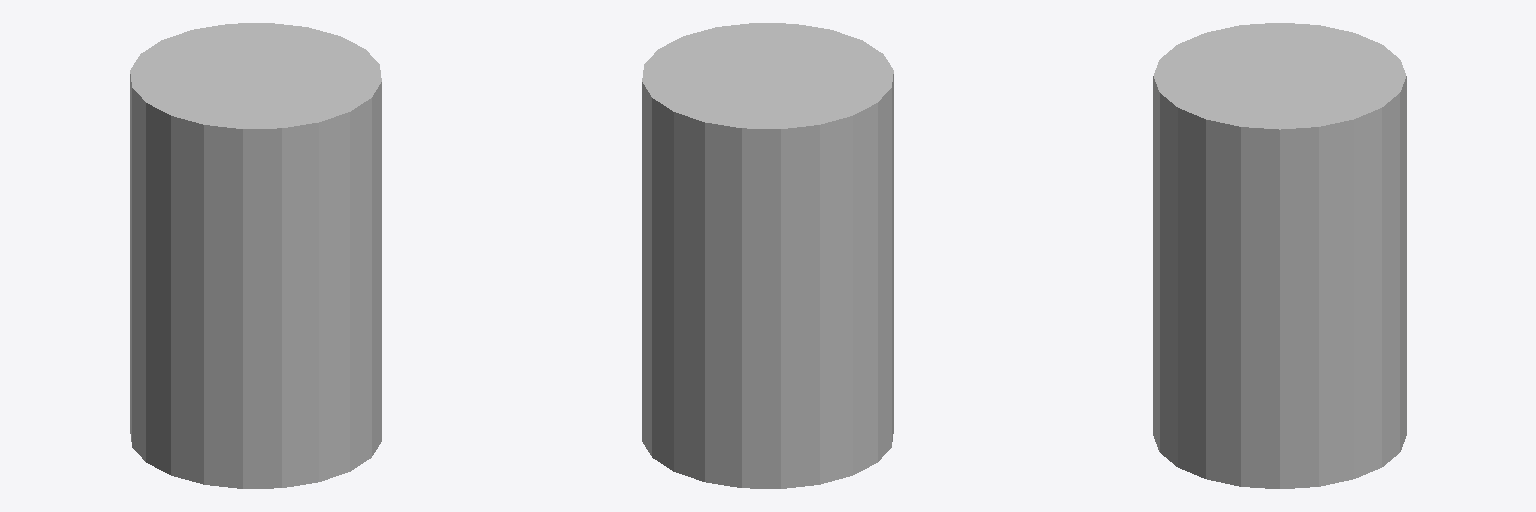
Rendered from canned_food_13.obj.
3 views of the same model, side by side, from view 1: azimuth 30°, elevation 25°; view 2: azimuth 150°, elevation 25°; view 3: azimuth 270°, elevation 25° (orthographic).
Visible parts, largest first — view 1: pCylinder1; view 2: pCylinder1; view 3: pCylinder1.
Boxes of the visible parts, x1,y1,x2,y2 form: pCylinder1: [130, 23, 381, 488]; pCylinder1: [642, 23, 893, 488]; pCylinder1: [1153, 23, 1406, 488].
Size of the model in its own units: 1.89 by 2.97 by 1.89.